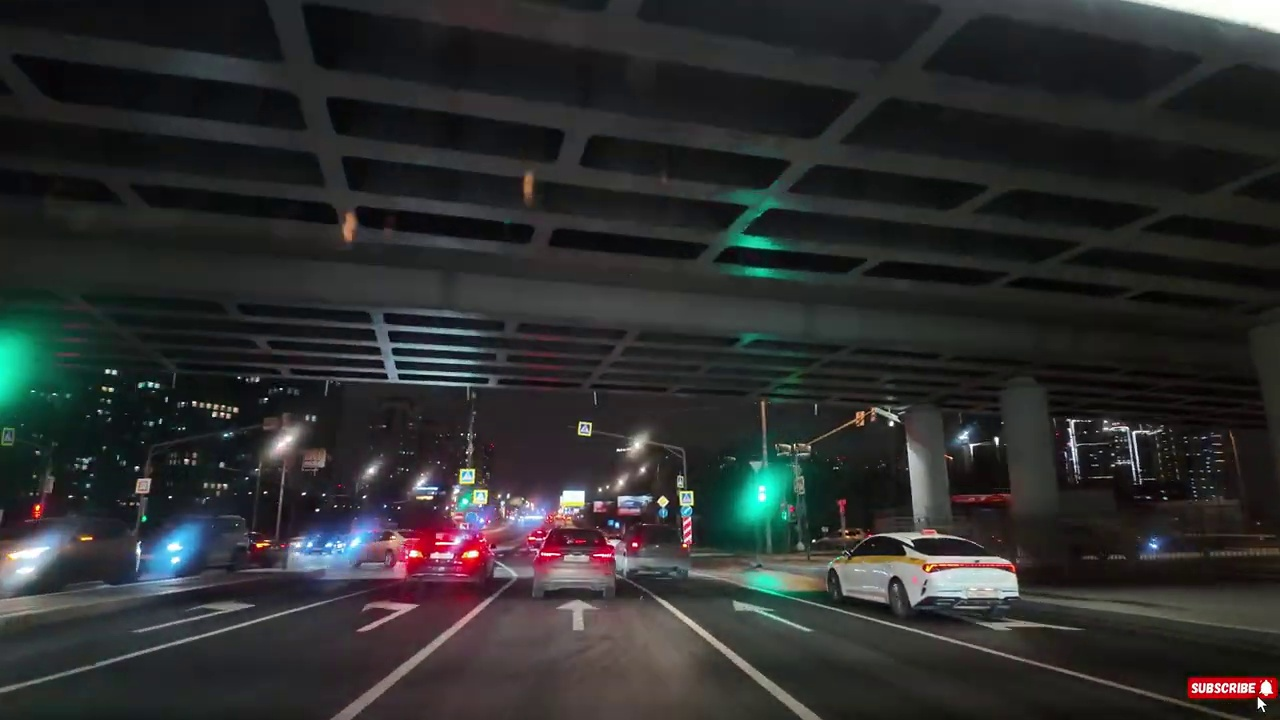acesa: (266, 426, 303, 461)
